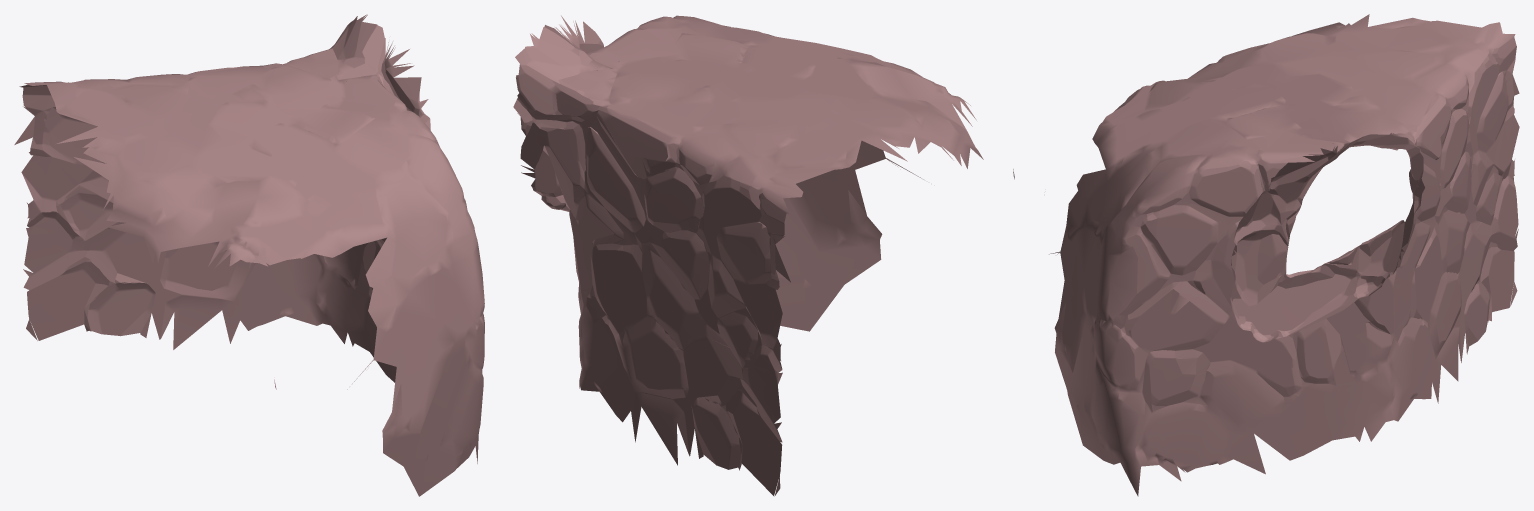
Rendered from canyon.fbx_PolyShape__3__018LODs.fbx.
The picture shows the model from 3 angles, left to right: view 1: azimuth 30°, elevation 25°; view 2: azimuth 150°, elevation 25°; view 3: azimuth 270°, elevation 25°; orthographic projection. The views are drawn at different scales.
Parts seen in each view (by area): view 1: PolyShape (3).018_LOD0; view 2: PolyShape (3).018_LOD0; view 3: PolyShape (3).018_LOD0.
Part boxes in pixels (<box>): PolyShape (3).018_LOD0: <box>14,14,484,496</box>; PolyShape (3).018_LOD0: <box>513,15,1014,496</box>; PolyShape (3).018_LOD0: <box>1049,14,1519,496</box>.
Size of what is drawn, in the model's own units: 5220 by 5370 by 6253.
